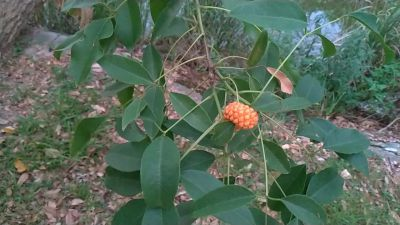eggs: (222, 99, 256, 129)
